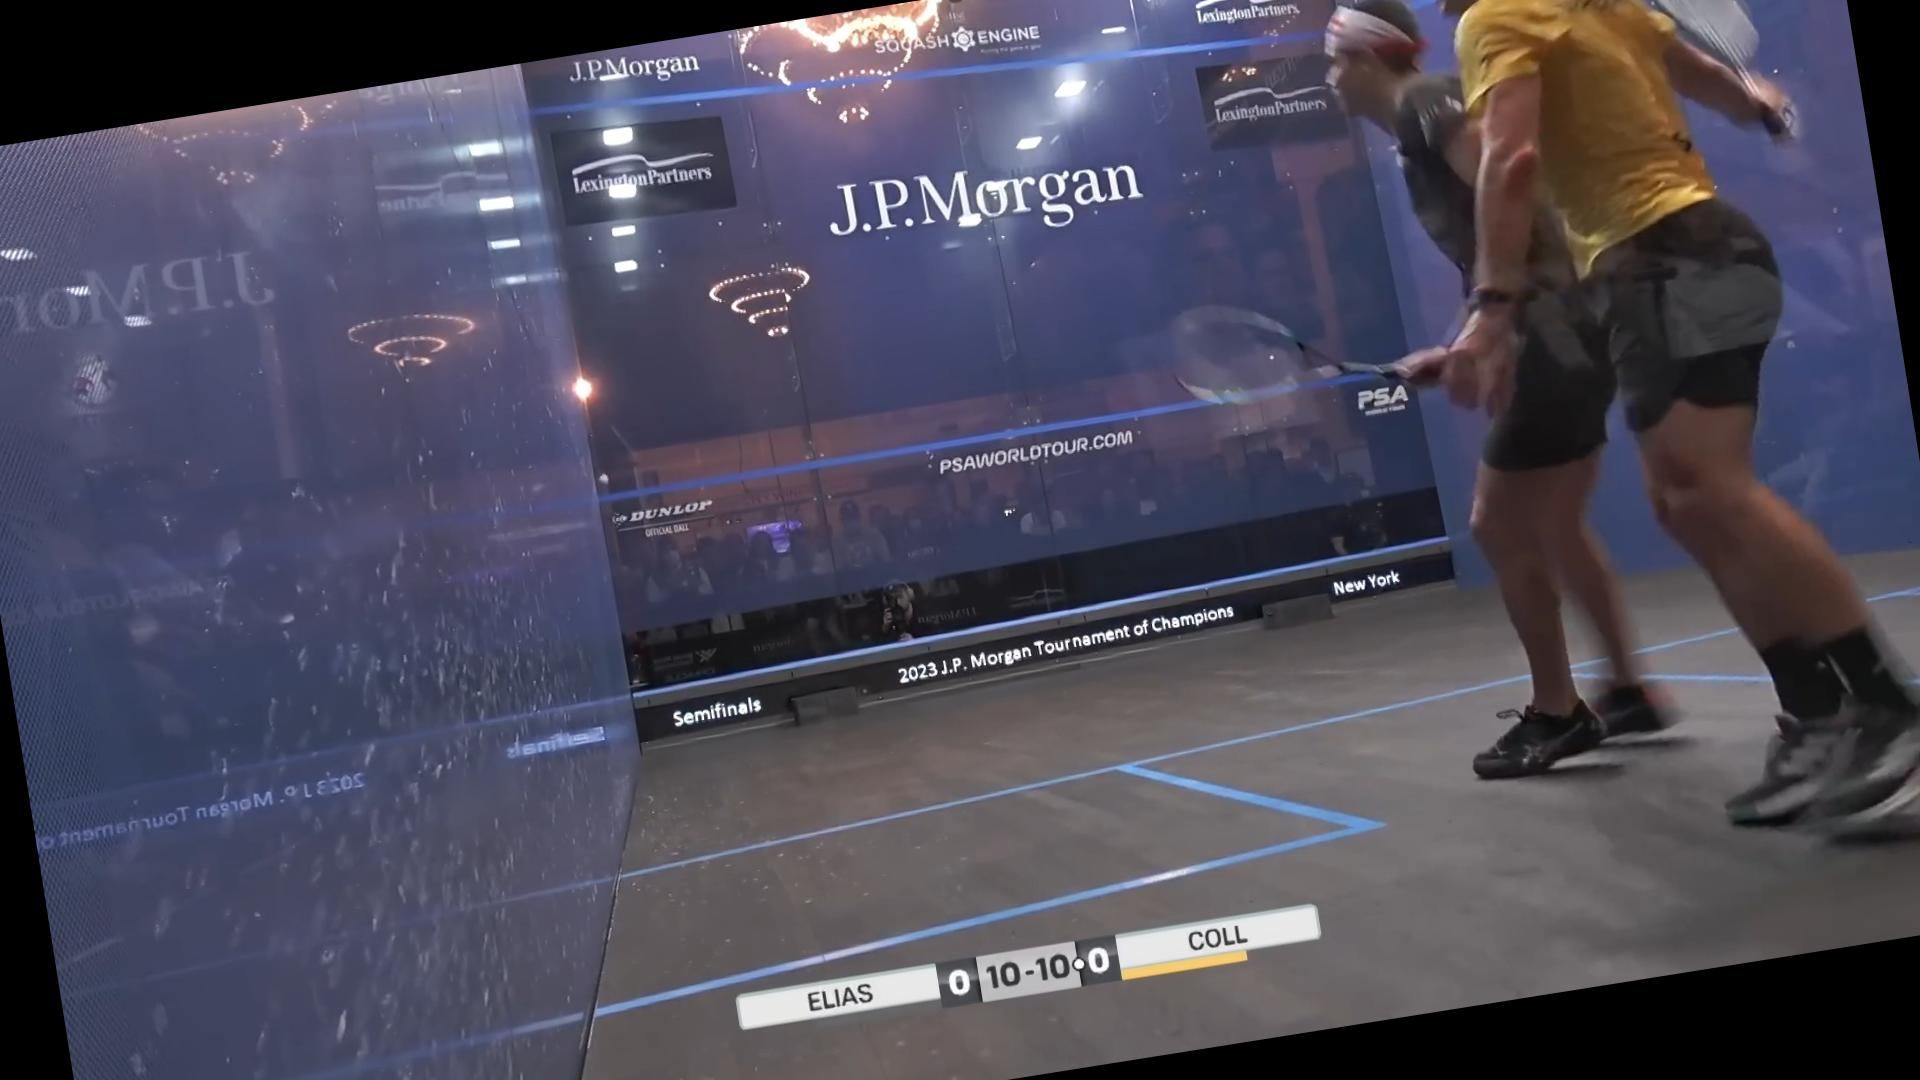Racket: (1149, 265, 1407, 447)
